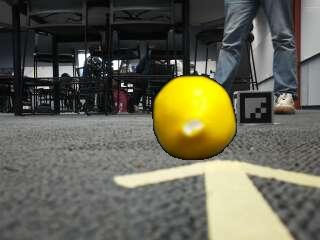lemon: (154, 74, 235, 159)
